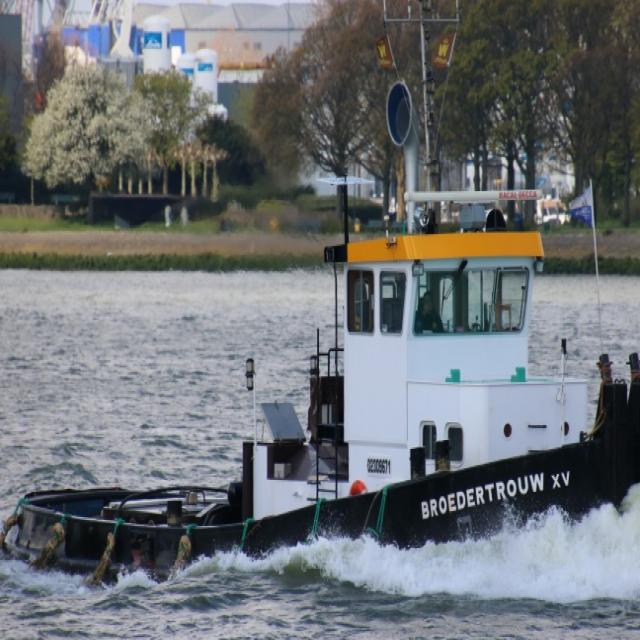tugboat: (1, 1, 640, 626)
